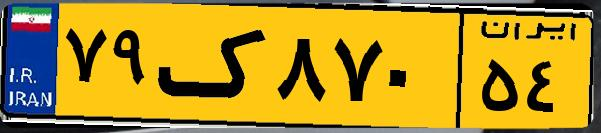0: (385, 28, 445, 110)
4: (525, 38, 570, 115)
5: (475, 38, 525, 113)
7: (330, 28, 385, 110), (57, 26, 110, 100)
8: (270, 28, 330, 110)
9: (110, 28, 158, 98)
ک: (158, 12, 270, 120)
